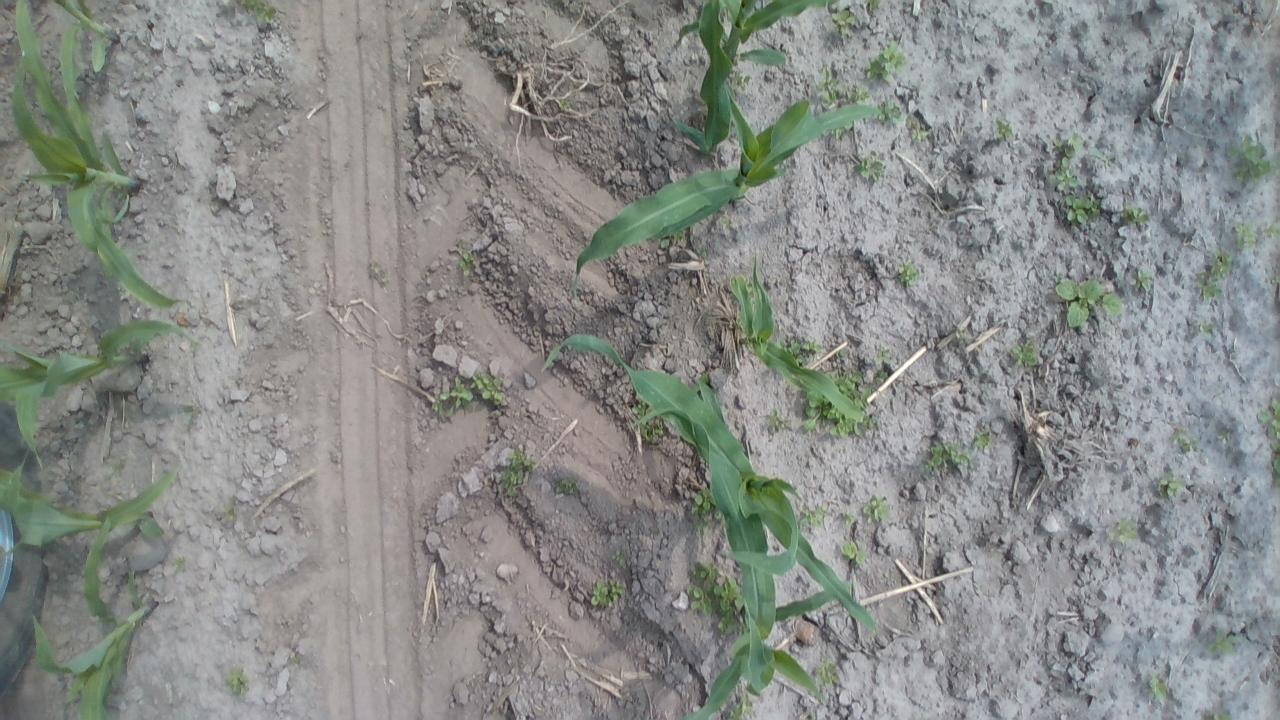Maize: (560, 343, 884, 718), (573, 79, 886, 294), (3, 1, 200, 309), (678, 524, 832, 720), (0, 319, 194, 469), (0, 461, 179, 614), (666, 0, 834, 159), (722, 257, 874, 424), (28, 577, 164, 719), (55, 0, 116, 90)
Weeds: (683, 558, 741, 632), (1057, 275, 1123, 330), (1225, 130, 1274, 185), (1050, 131, 1084, 197), (1196, 248, 1234, 302), (498, 446, 537, 498), (433, 376, 478, 416), (863, 42, 906, 83), (920, 439, 970, 474), (828, 367, 872, 405), (1060, 192, 1104, 229), (804, 393, 840, 434), (632, 404, 666, 442), (784, 337, 824, 368), (588, 579, 628, 610), (690, 488, 718, 532), (469, 371, 506, 404), (238, 0, 280, 27), (817, 63, 840, 106), (729, 688, 760, 719), (856, 152, 887, 182), (225, 664, 253, 697), (871, 99, 904, 126), (832, 411, 868, 435), (1010, 340, 1040, 368), (1257, 397, 1276, 441), (1123, 203, 1152, 231), (841, 538, 866, 570), (1234, 218, 1256, 254), (1112, 517, 1140, 545), (1172, 426, 1199, 455), (1208, 630, 1238, 656), (894, 258, 920, 287), (831, 9, 856, 38), (863, 496, 890, 522), (1146, 674, 1170, 702), (905, 121, 929, 148), (1131, 268, 1154, 296), (816, 658, 840, 684), (1156, 474, 1182, 498), (765, 409, 788, 435), (800, 506, 824, 530), (994, 118, 1016, 144), (457, 250, 478, 277), (1090, 145, 1116, 166), (973, 427, 994, 452), (846, 85, 874, 103), (68, 674, 88, 698), (556, 478, 580, 496), (950, 329, 971, 347), (691, 243, 713, 260), (1196, 320, 1216, 338), (182, 402, 200, 422), (613, 547, 629, 569), (222, 501, 238, 522), (718, 212, 735, 231), (1204, 710, 1236, 720), (874, 346, 890, 366), (170, 556, 188, 572), (288, 649, 304, 667), (865, 0, 885, 14), (874, 365, 890, 382), (1217, 428, 1232, 446), (1263, 222, 1277, 240), (840, 510, 857, 524), (834, 346, 851, 359)
